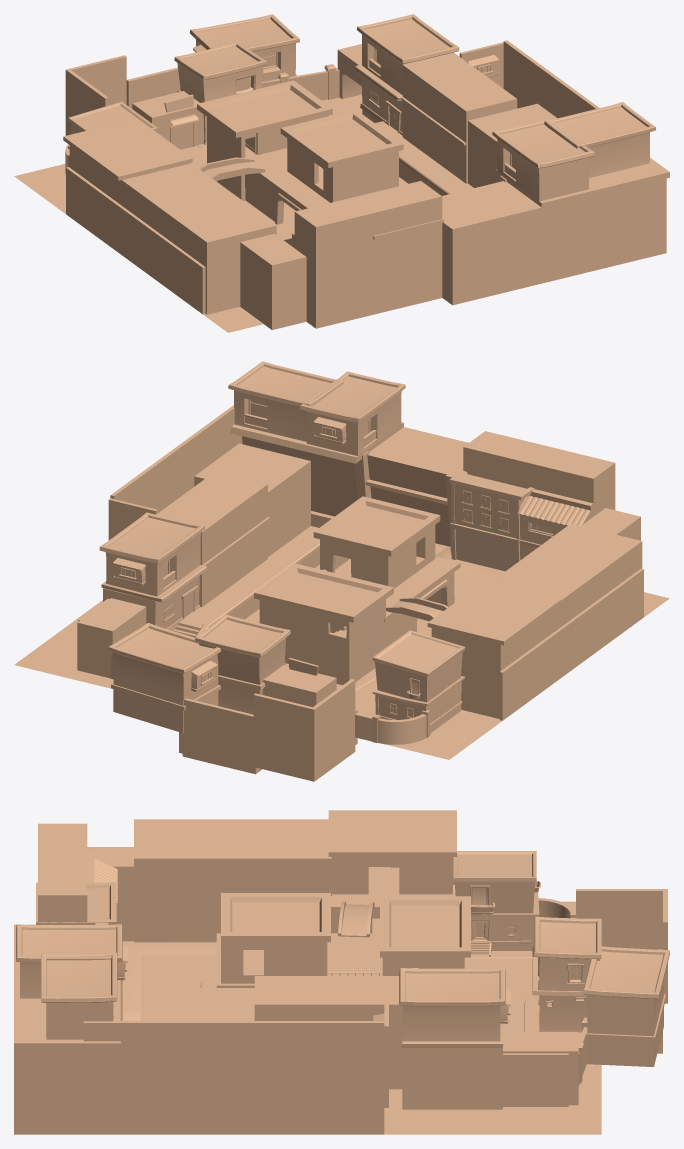
File: map_blocking-1.fbx
3 renders of one model, top to bottom at view 1: azimuth 30°, elevation 25°; view 2: azimuth 150°, elevation 25°; view 3: azimuth 270°, elevation 25°, orthographic. The views are drawn at different scales.
Parts seen in each view (by area): view 1: Cube.122, Cube.042, Cube.094, Cube.182, Cube.179, Cube.183, Cube.089, Cube.155, Cube.132, Cube.051, Cube.064, Cube.098 (+39 smaller); view 2: Cube.122, Cube.042, Cube.182, Plane, Cube.013, Cube.064, Cube.089, Cube.155, Cube.062, Cube.165, Cube.020, Cube.132 (+49 smaller); view 3: Cube.064, Plane, Cube.094, Cube.051, Cube.003, Cube.122, Cube.089, Cube.155, Cube.132, Cube.133, Cube.013, Cube.182 (+36 smaller).
Part boxes in pixels (x1,y1,x2,y2): Cube.122: [442, 177, 666, 305]; Cube.042: [66, 167, 205, 314]; Cube.094: [164, 194, 276, 314]; Cube.182: [294, 181, 442, 253]; Cube.179: [284, 238, 377, 328]; Cube.183: [240, 234, 306, 329]; Cube.089: [63, 118, 192, 180]; Cube.155: [197, 80, 332, 137]; Cube.132: [280, 109, 403, 168]; Cube.051: [122, 163, 233, 236]; Cube.064: [503, 40, 599, 118]; Cube.098: [432, 75, 517, 145]; Cube.122: [242, 427, 468, 546]; Cube.042: [499, 568, 643, 720]; Cube.182: [463, 431, 615, 505]; Plane: [14, 543, 669, 759]; Cube.013: [111, 652, 220, 733]; Cube.064: [110, 405, 242, 512]; Cube.089: [427, 581, 560, 645]; Cube.155: [254, 563, 393, 622]; Cube.062: [253, 693, 316, 781]; Cube.165: [263, 600, 360, 685]; Cube.020: [372, 630, 465, 702]; Cube.132: [313, 496, 440, 556]; Cube.064: [83, 1021, 384, 1134]; Plane: [140, 901, 601, 1134]; Cube.094: [134, 819, 232, 942]; Cube.051: [233, 819, 331, 933]; Cube.003: [402, 1047, 502, 1109]; Cube.122: [14, 924, 83, 1134]; Cube.089: [328, 810, 456, 856]; Cube.155: [380, 896, 470, 957]; Cube.132: [221, 893, 330, 942]; Cube.133: [190, 1108, 384, 1134]; Cube.013: [586, 981, 665, 1066]; Cube.182: [38, 823, 87, 922].
Size of the model in its own units: 7672 by 2503 by 9019.
